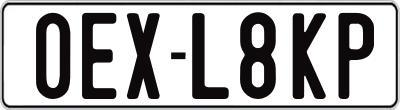0: (36, 13, 73, 100)
8: (239, 10, 275, 101)
E: (79, 11, 114, 101)
K: (292, 13, 329, 105)
L: (192, 13, 235, 105)
P: (339, 10, 375, 98)
X: (126, 11, 161, 103)
